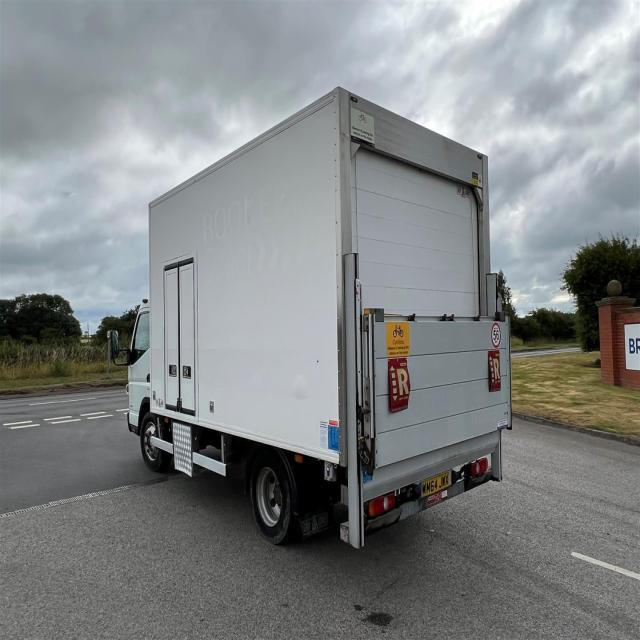truck: (106, 85, 512, 551)
